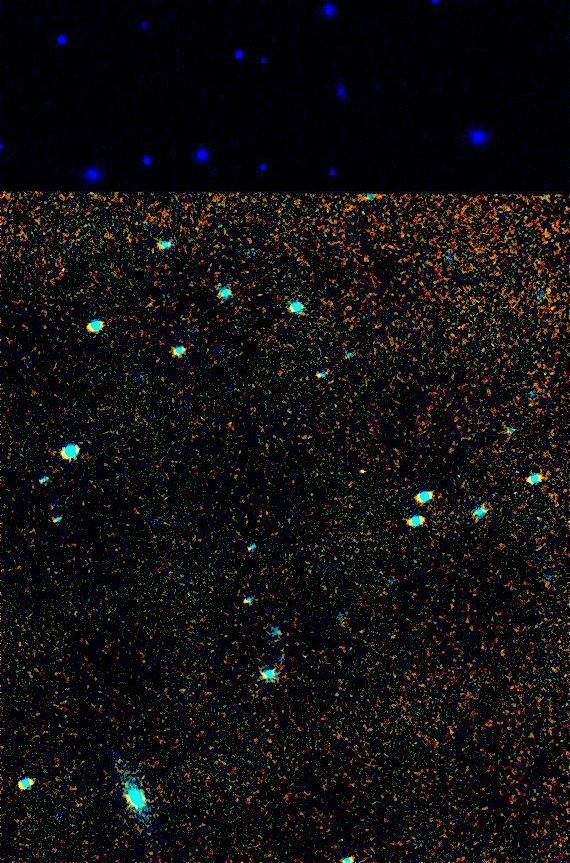star: (346, 455, 376, 485)
